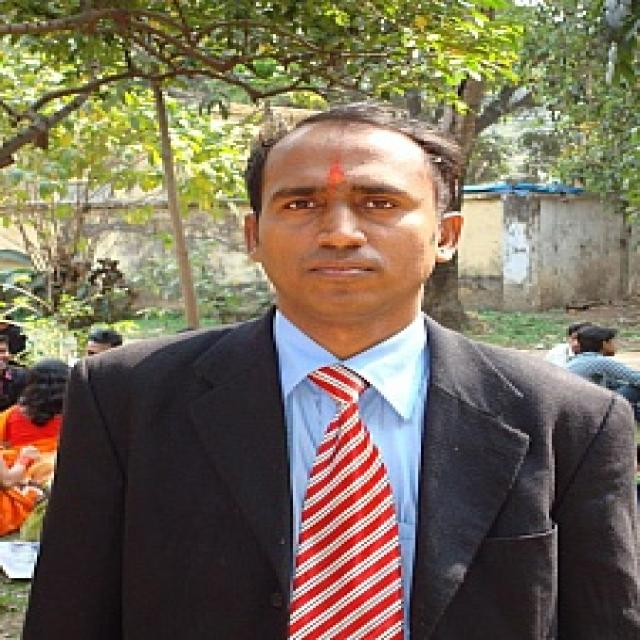Eyes: (268, 187, 416, 220)
